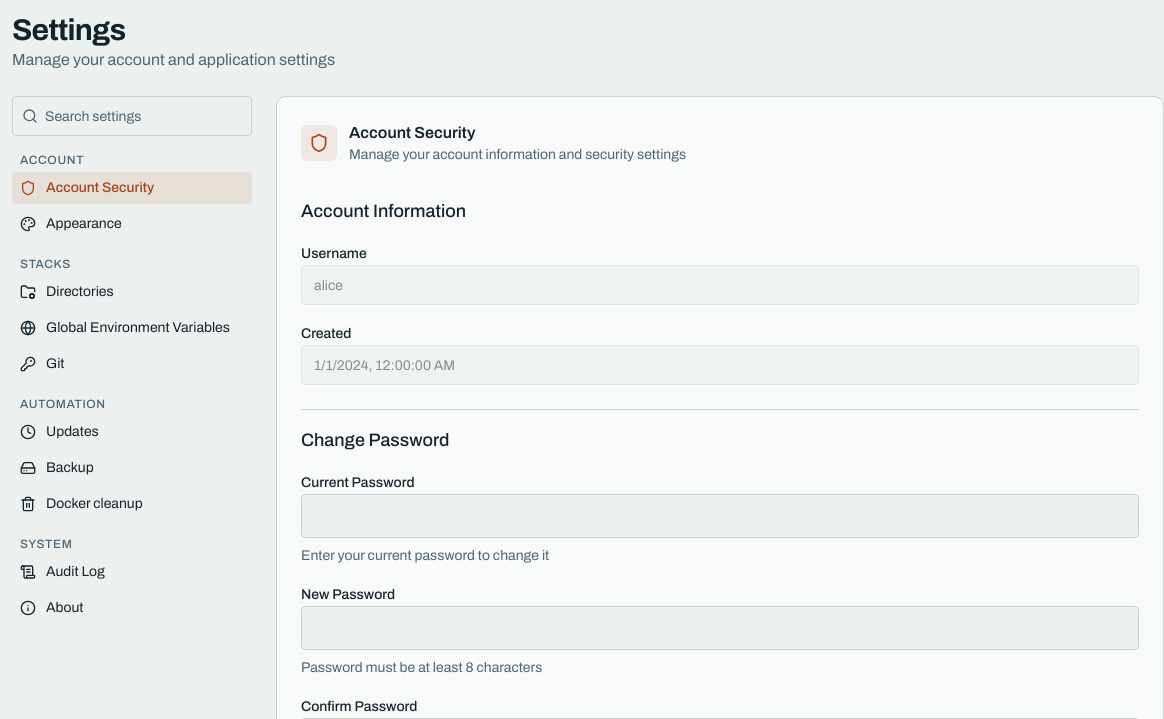
Scenario: SettingsPage › section routing › shows a no-results message when the search matches nothing
This screenshot has width=1164, height=719.
Type "zzz-nope" into the field labelled "Search settings" at point(132, 116), box [12,96,252,136]
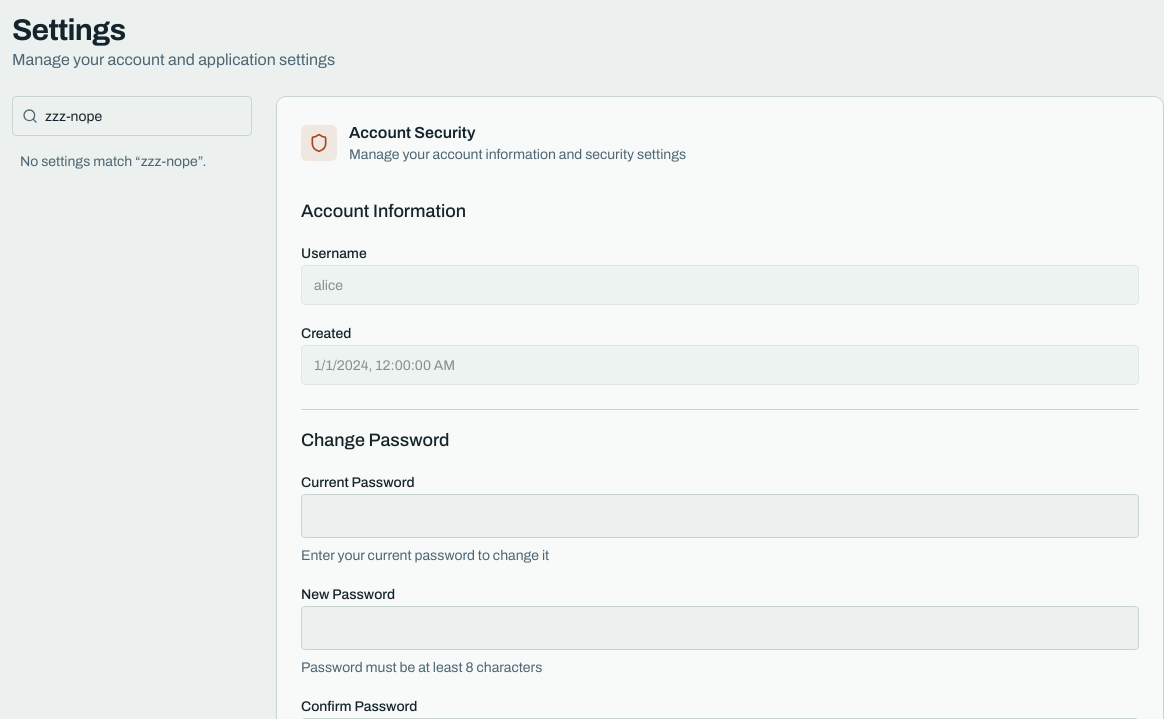
Now the text "No settings match “zzz-nope”." is shown, box [20,154,206,169]
